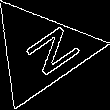N_SW: (7, 20, 76, 82)
